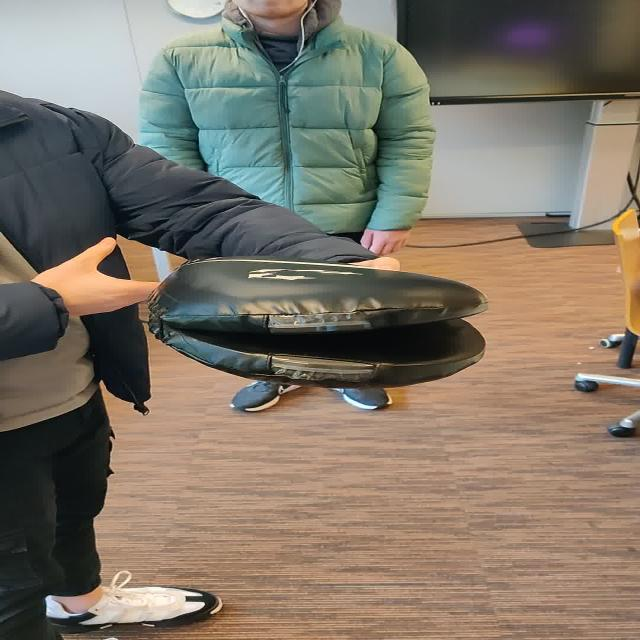paddle: (145, 255, 491, 388)
